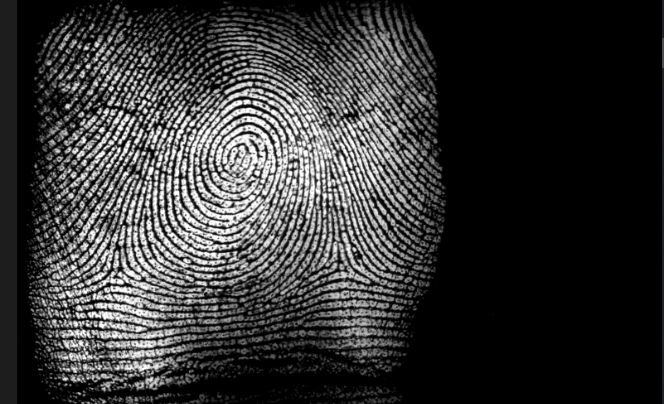nucelo: (223, 142, 253, 167)
verticilo: (94, 250, 137, 284), (328, 249, 360, 285)
